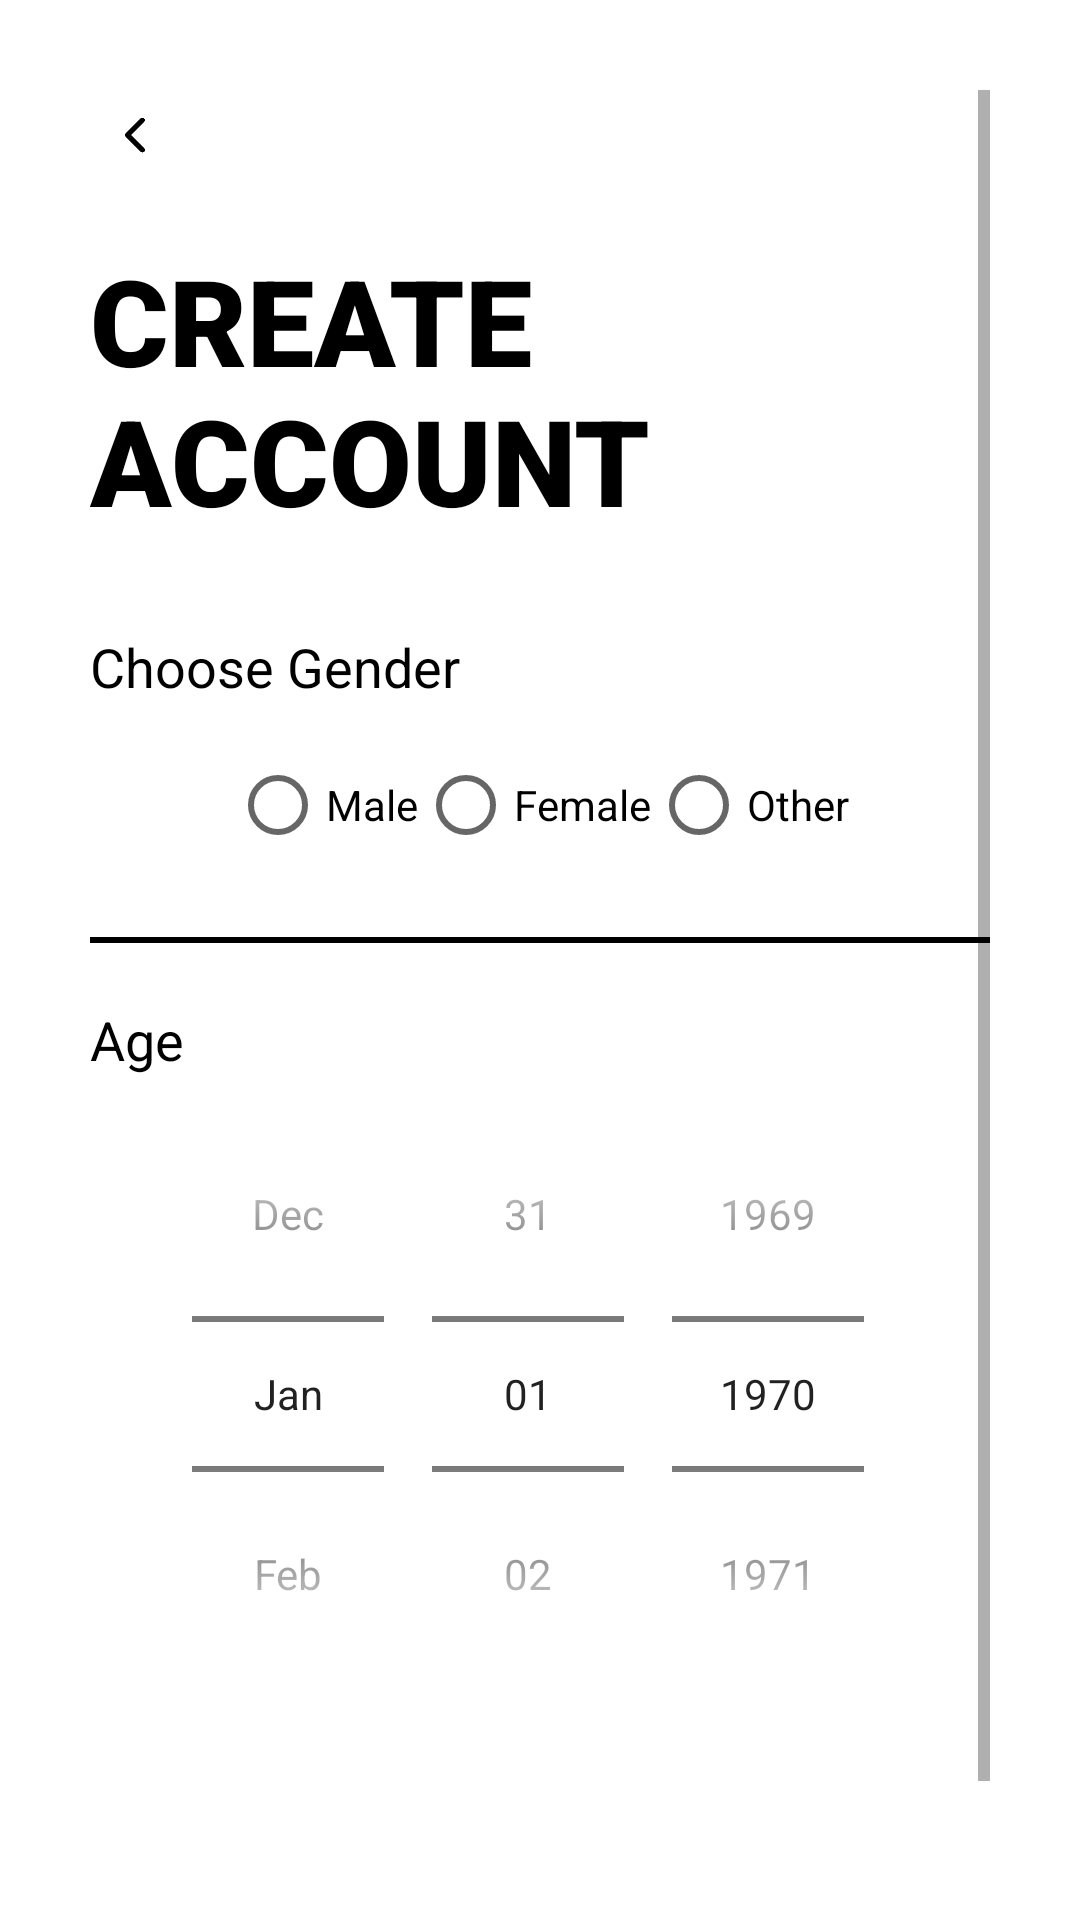

Where icons sit on this 1080px x 1920px app screen, as {"left": x1, "top": y1, "right": x2, "bottom": y2}:
back: {"left": 125, "top": 118, "right": 145, "bottom": 153}
